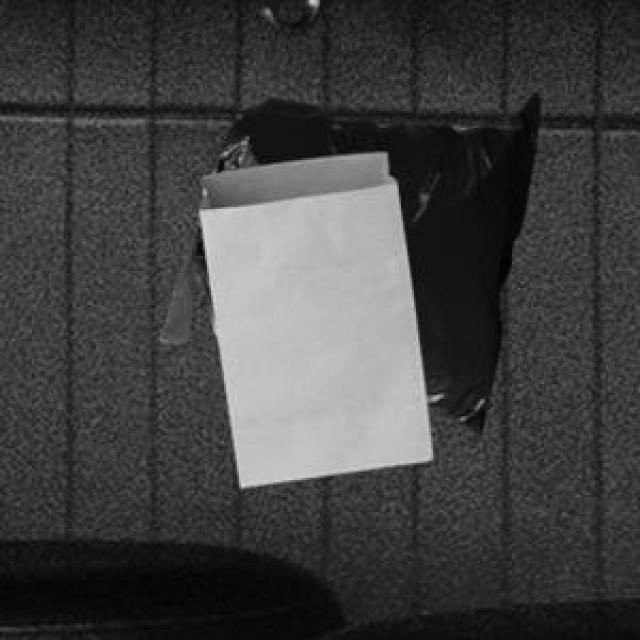miscellaneous trash: (156, 90, 536, 437)
paper: (196, 149, 429, 482)
